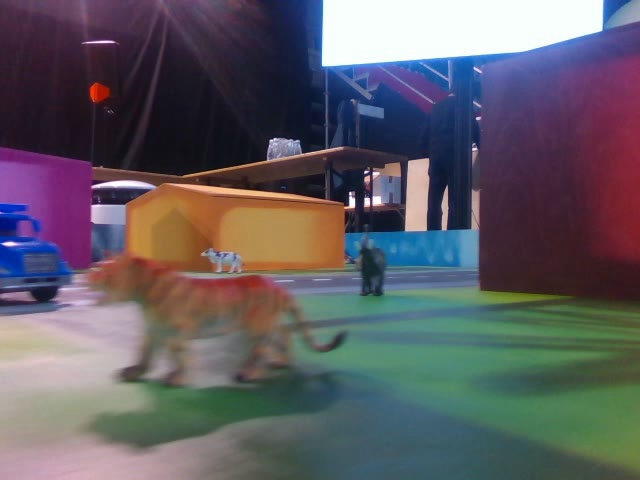toy: (87, 256, 346, 381), (354, 223, 387, 297), (202, 248, 244, 274)
